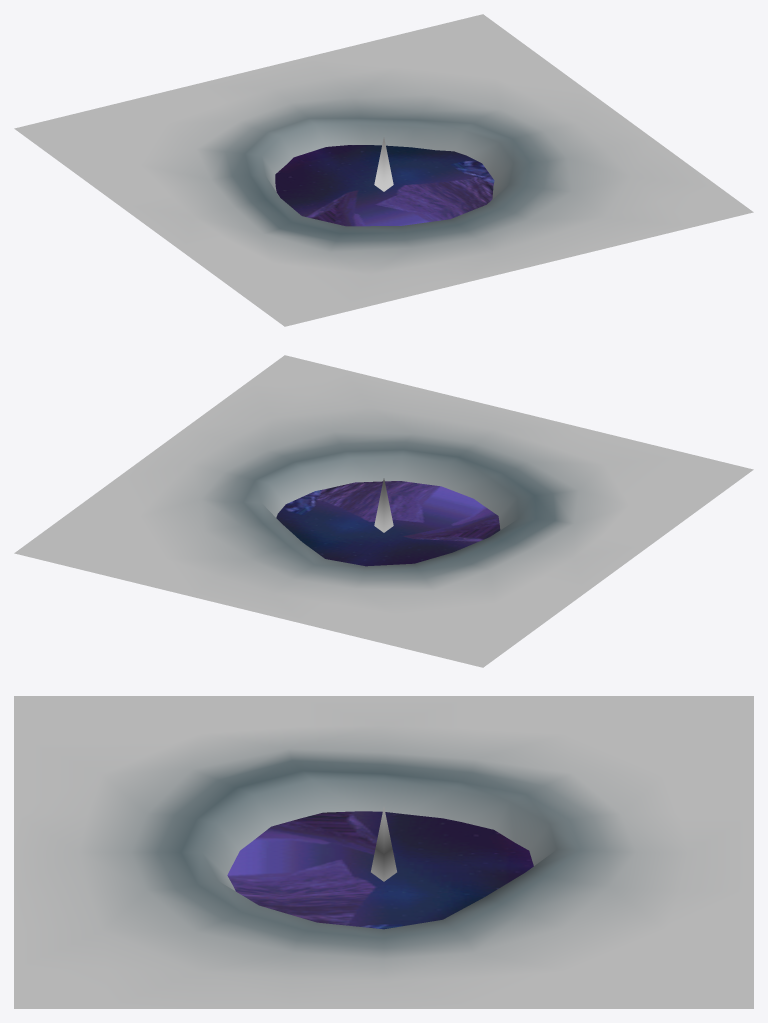
The model's file is bepool01.fbx.
3 views of the same model, one above another, from view 1: azimuth 30°, elevation 25°; view 2: azimuth 150°, elevation 25°; view 3: azimuth 270°, elevation 25° (orthographic). The views are drawn at different scales.
Visible parts, largest first — view 1: grid1, chrome, hp_emit_1; view 2: grid1, chrome, hp_emit_1; view 3: grid1, chrome, hp_emit_1.
Part boxes in pixels (bbox=[...]): grid1: bbox=[14, 14, 753, 326]; chrome: bbox=[275, 145, 494, 226]; hp_emit_1: bbox=[374, 137, 393, 191]; grid1: bbox=[14, 355, 753, 667]; chrome: bbox=[276, 481, 500, 566]; hp_emit_1: bbox=[374, 478, 393, 532]; grid1: bbox=[14, 696, 753, 1008]; chrome: bbox=[227, 811, 533, 929]; hp_emit_1: bbox=[371, 807, 396, 881].
Size of the model in its own units: 32 by 6.43 by 32.
